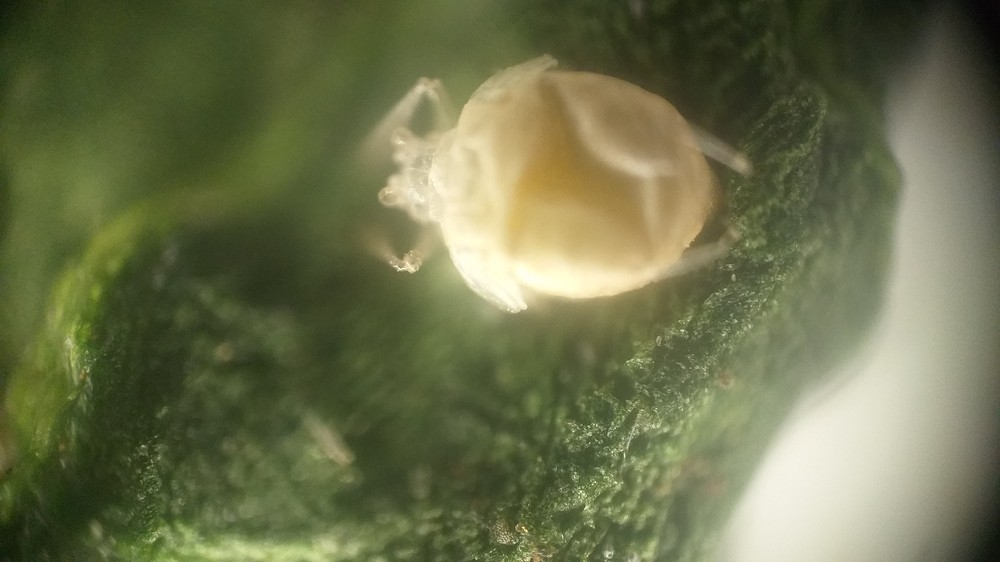Pulgon: (321, 45, 789, 333)
